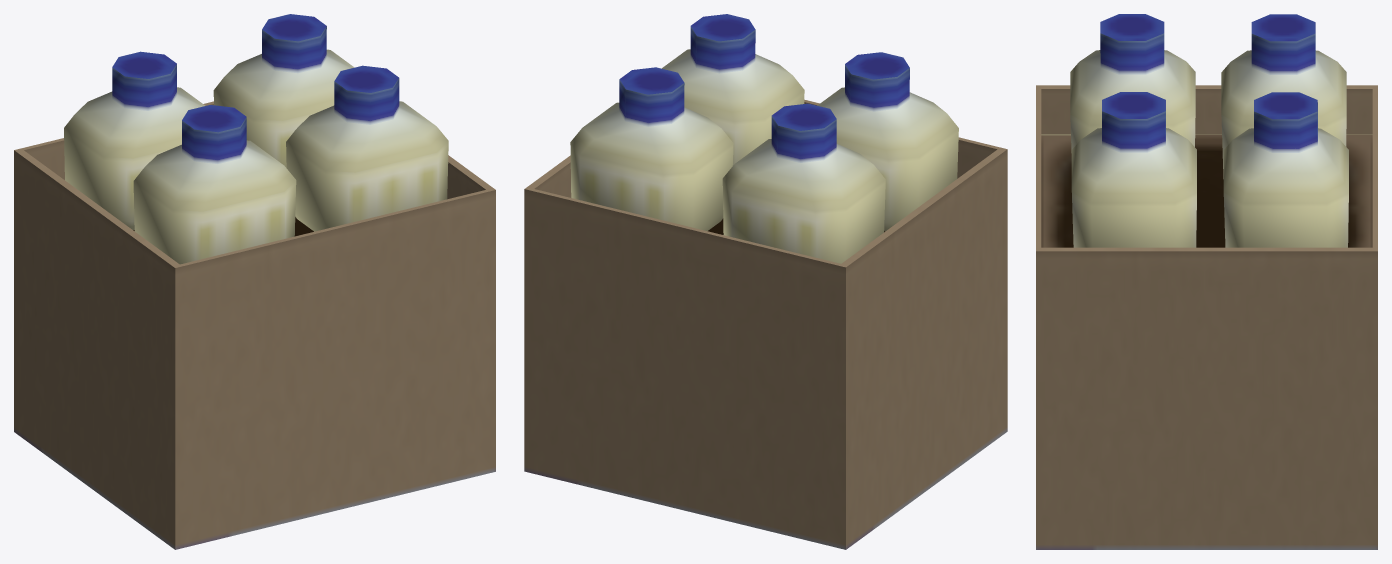
File: BoxofVegetableoil_ground.fbx
The picture shows the model from 3 angles, left to right: view 1: azimuth 30°, elevation 25°; view 2: azimuth 150°, elevation 25°; view 3: azimuth 270°, elevation 25°; orthographic projection. The views are drawn at different scales.
Visible parts, largest first — view 1: OilVegetable.001; view 2: OilVegetable.001; view 3: OilVegetable.001.
Boxes of the visible parts, bbox=[...] form: OilVegetable.001: bbox=[14, 14, 495, 549]; OilVegetable.001: bbox=[524, 14, 1007, 549]; OilVegetable.001: bbox=[1036, 14, 1377, 549].
Size of the model in its own units: 3.34 by 3.77 by 2.9.
